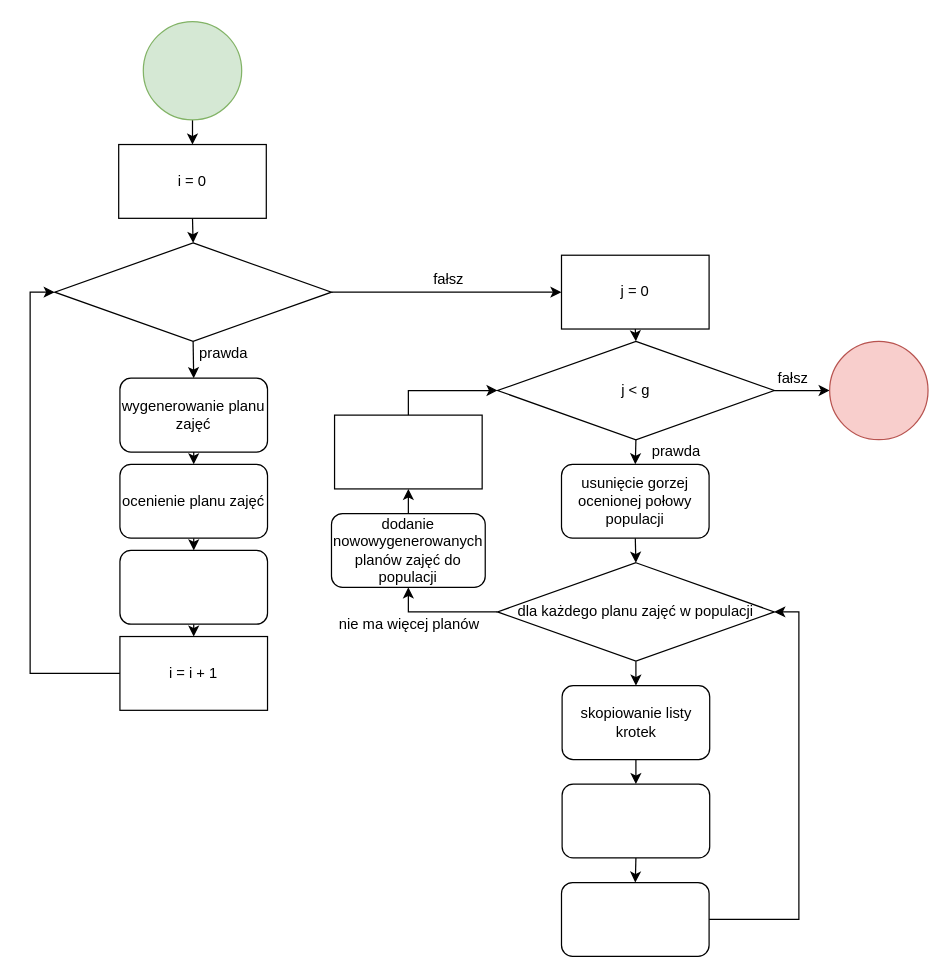
This 950x978 diagram has some shape labels left out. Each missing label, with the centre of its shape:
"dodanie planu zajęć do populacji" goes at (193,586).
"i < n" goes at (192,291).
"j = j + 1" goes at (407,451).
"wprowadzenie losowych zmian w skopiowanej liście krotek" goes at (635,820).
"wygenerowanie z skopiowanej listy krotek planu zajęć" goes at (634,918).
